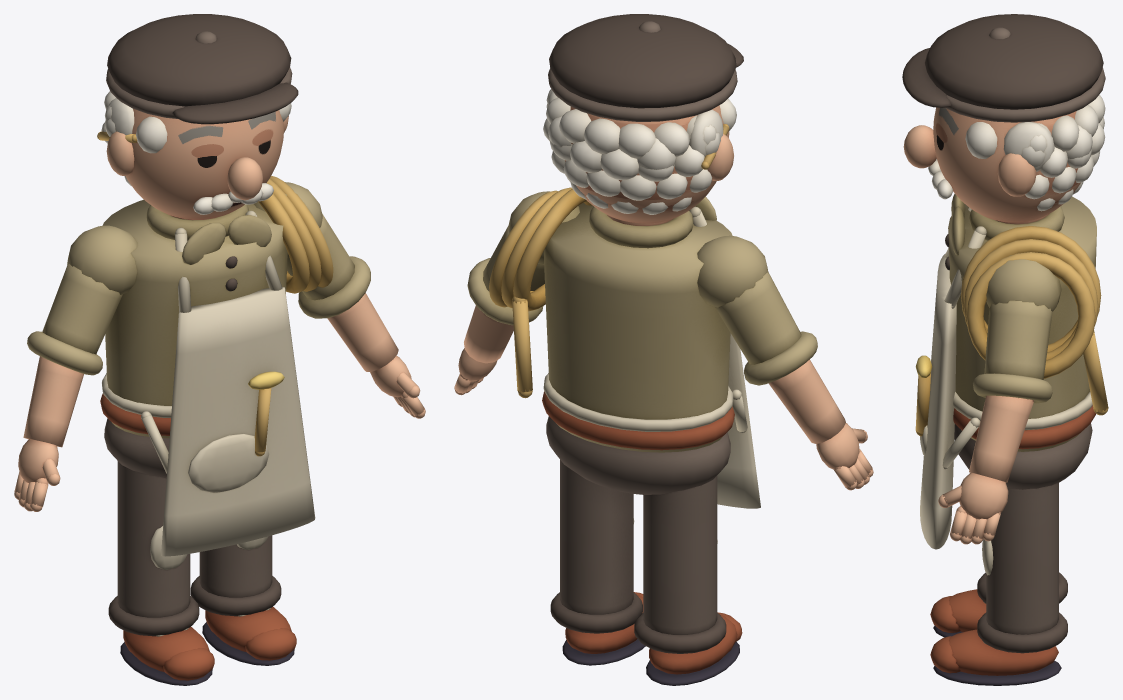
Rendered from clown_v2_static.glb.
3 views of the same model, side by side, from view 1: azimuth 30°, elevation 25°; view 2: azimuth 150°, elevation 25°; view 3: azimuth 270°, elevation 25° (orthographic).
Visible parts, largest first — view 1: body, head; view 2: body, head; view 3: body, head.
Part boxes in pixels (<box>): body: <box>14,14,425,685</box>; head: <box>125,109,283,219</box>; body: <box>454,14,873,685</box>; head: <box>565,105,729,223</box>; body: <box>902,14,1108,685</box>; head: <box>933,107,1080,222</box>.
Bounding box in the file's own units: 1.2 × 1.81 × 0.5398.
2 materials, 2 textured.
